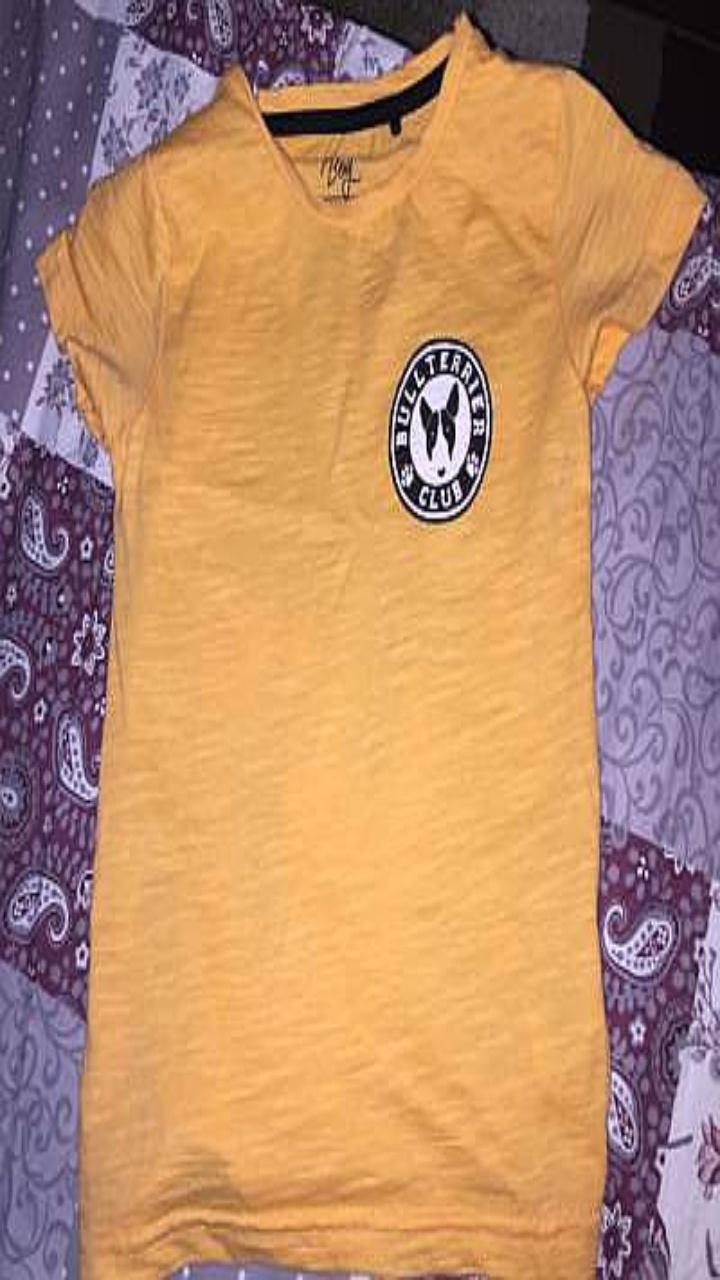T-Shirt: (38, 18, 702, 1279)
